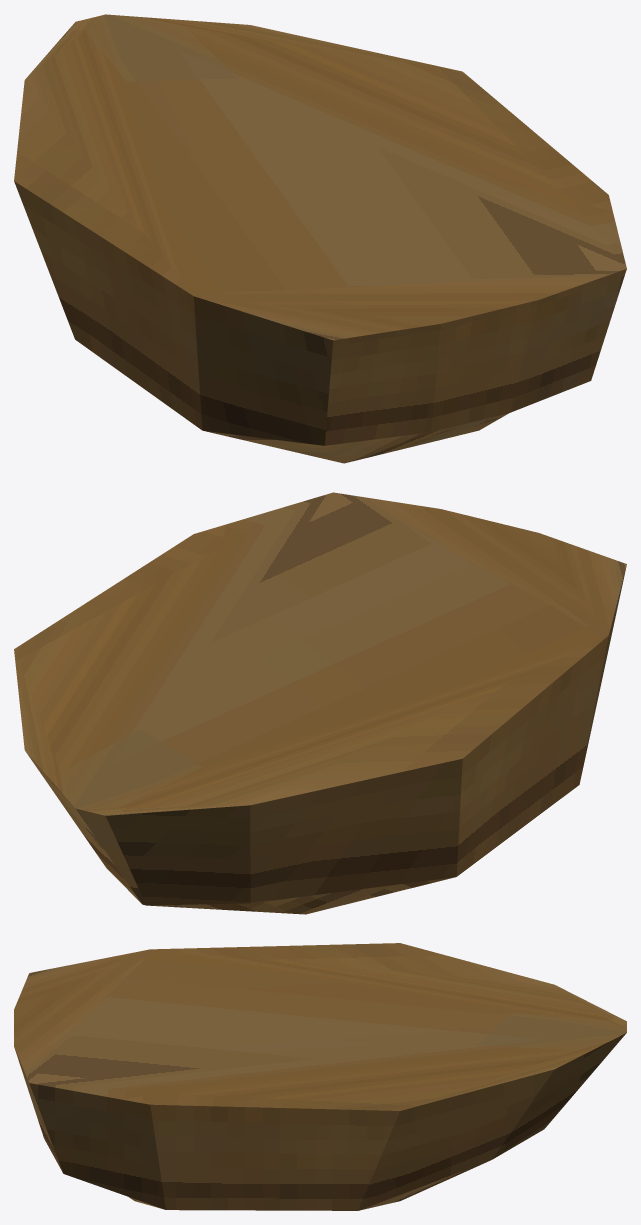
The model's file is BoatItem.glb.
3 views of the same model, one above another, from view 1: azimuth 30°, elevation 25°; view 2: azimuth 150°, elevation 25°; view 3: azimuth 270°, elevation 25° (orthographic). The views are drawn at different scales.
Parts seen in each view (by area): view 1: Boat; view 2: Boat; view 3: Boat.
Boxes of the visible parts, x1=… form: Boat: x1=14, y1=14, x2=626, y2=463; Boat: x1=14, y1=492, x2=626, y2=914; Boat: x1=14, y1=943, x2=626, y2=1210.
Size of the model in its own units: 1.16 by 0.4772 by 1.78.
1 material, 1 textured.
